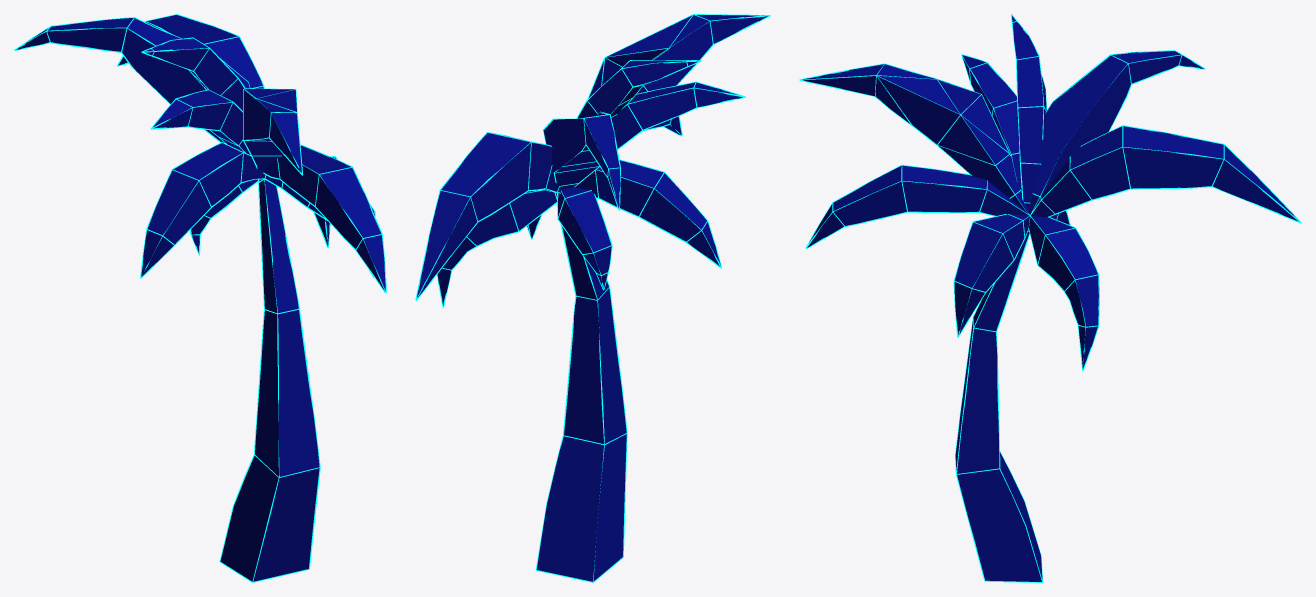
File: Palmier.fbx
3 renders of one model, left to right at view 1: azimuth 30°, elevation 25°; view 2: azimuth 150°, elevation 25°; view 3: azimuth 270°, elevation 25°, orthographic. The views are drawn at different scales.
Visible parts, largest first — view 1: Palmier, PalmierWireFrame; view 2: Palmier, PalmierWireFrame; view 3: Palmier, PalmierWireFrame.
Part boxes in pixels (left/top/right/bottom): Palmier: left=16, top=15, right=385, bottom=581; PalmierWireFrame: left=14, top=14, right=386, bottom=582; Palmier: left=417, top=15, right=767, bottom=581; PalmierWireFrame: left=415, top=14, right=770, bottom=582; Palmier: left=803, top=16, right=1298, bottom=581; PalmierWireFrame: left=799, top=14, right=1301, bottom=582.
Size of the model in its own units: 140 by 288 by 262.
